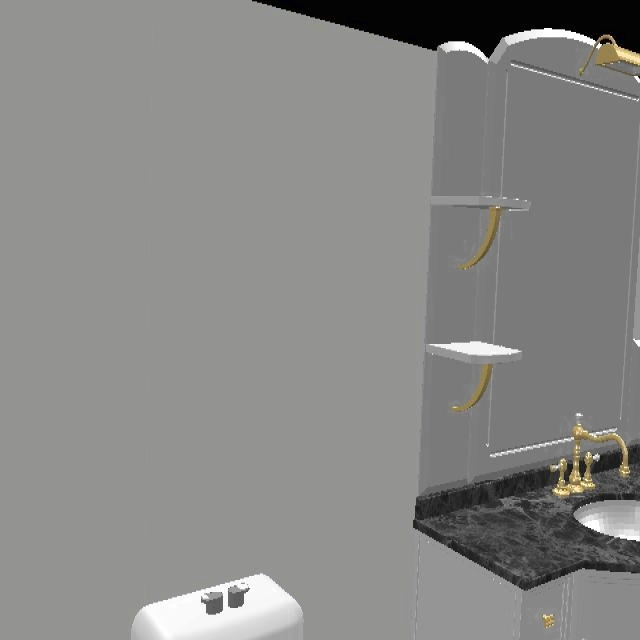shelf: (420, 43, 565, 493)
toilet: (129, 575, 305, 640)
washbasin: (573, 497, 640, 547)
